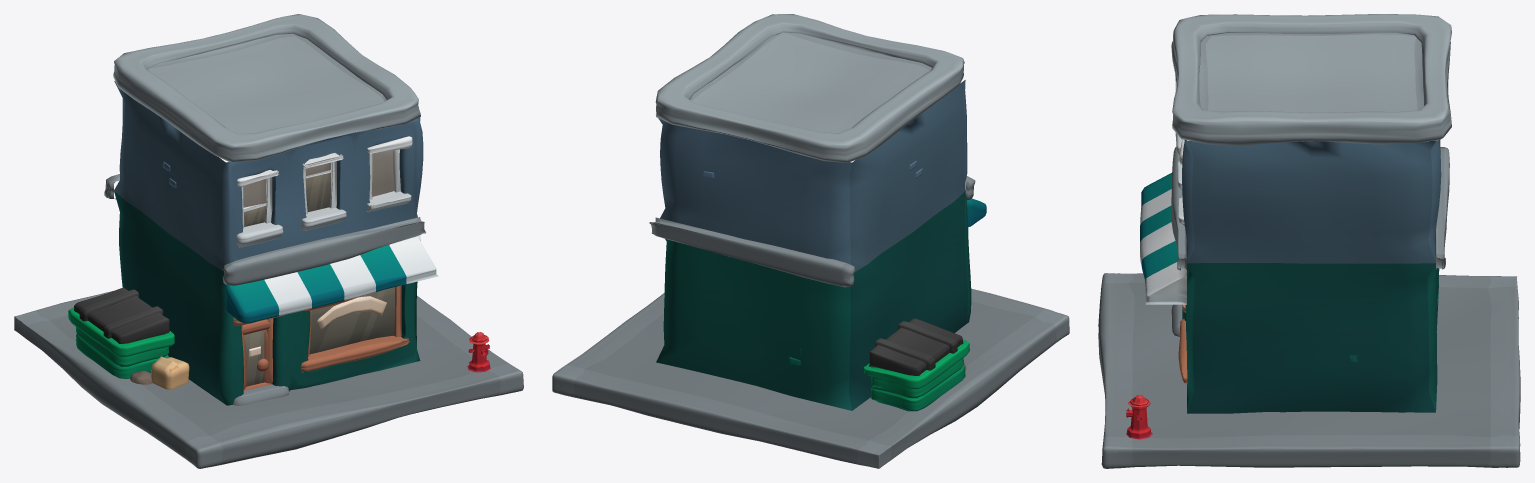
The model's file is building_A__kfb-clay-k2-baked-p0a.glb.
The picture shows the model from 3 angles, left to right: view 1: azimuth 30°, elevation 25°; view 2: azimuth 150°, elevation 25°; view 3: azimuth 270°, elevation 25°; orthographic projection. The views are drawn at different scales.
Parts seen in each view (by area): view 1: building_A__kfb_clay_p0a; view 2: building_A__kfb_clay_p0a; view 3: building_A__kfb_clay_p0a.
Part boxes in pixels (bbox=[...]): building_A__kfb_clay_p0a: bbox=[14, 14, 523, 468]; building_A__kfb_clay_p0a: bbox=[552, 14, 1069, 468]; building_A__kfb_clay_p0a: bbox=[1098, 14, 1520, 468].
Size of the model in its own units: 2.04 by 1.7 by 2.04.
Materials: 1 (1 with a texture image).
